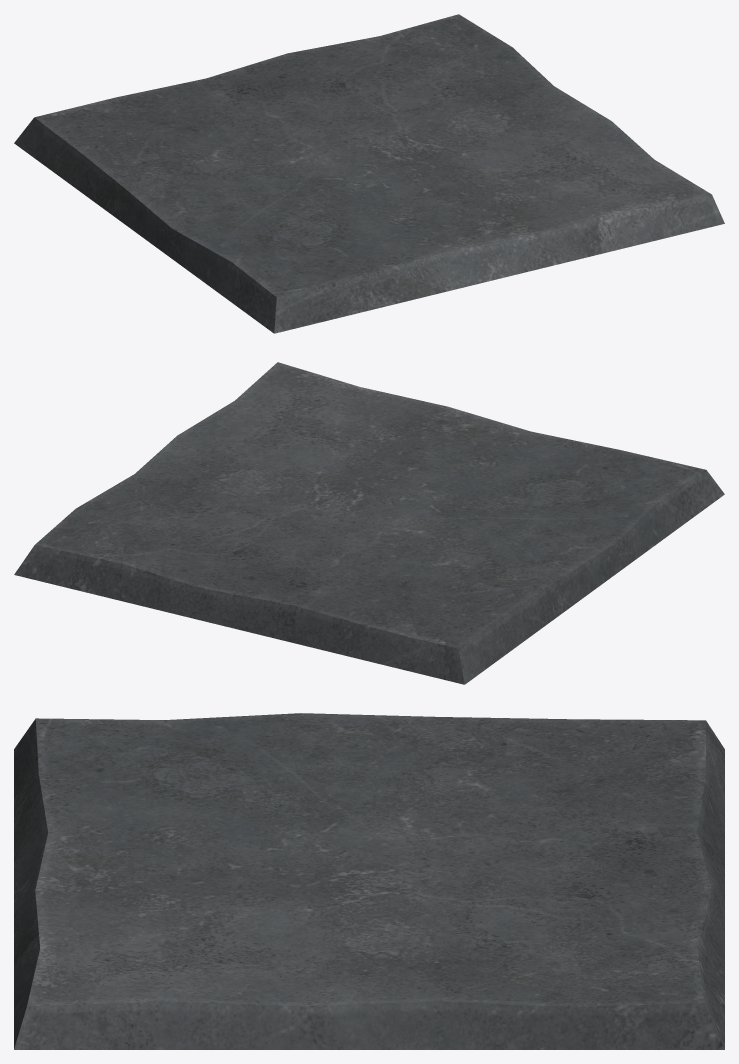
The model's file is Floor1.fbx.
3 renders of one model, top to bottom at view 1: azimuth 30°, elevation 25°; view 2: azimuth 150°, elevation 25°; view 3: azimuth 270°, elevation 25°, orthographic. The views are drawn at different scales.
Visible parts, largest first — view 1: FLOOR_Type1; view 2: FLOOR_Type1; view 3: FLOOR_Type1.
Boxes of the visible parts, x1,y1,x2,y2 form: FLOOR_Type1: [14, 14, 724, 333]; FLOOR_Type1: [14, 362, 724, 684]; FLOOR_Type1: [14, 713, 724, 1049].
Bounding box in the file's own units: 8 × 0.4709 × 8.
1 material, 1 textured.
